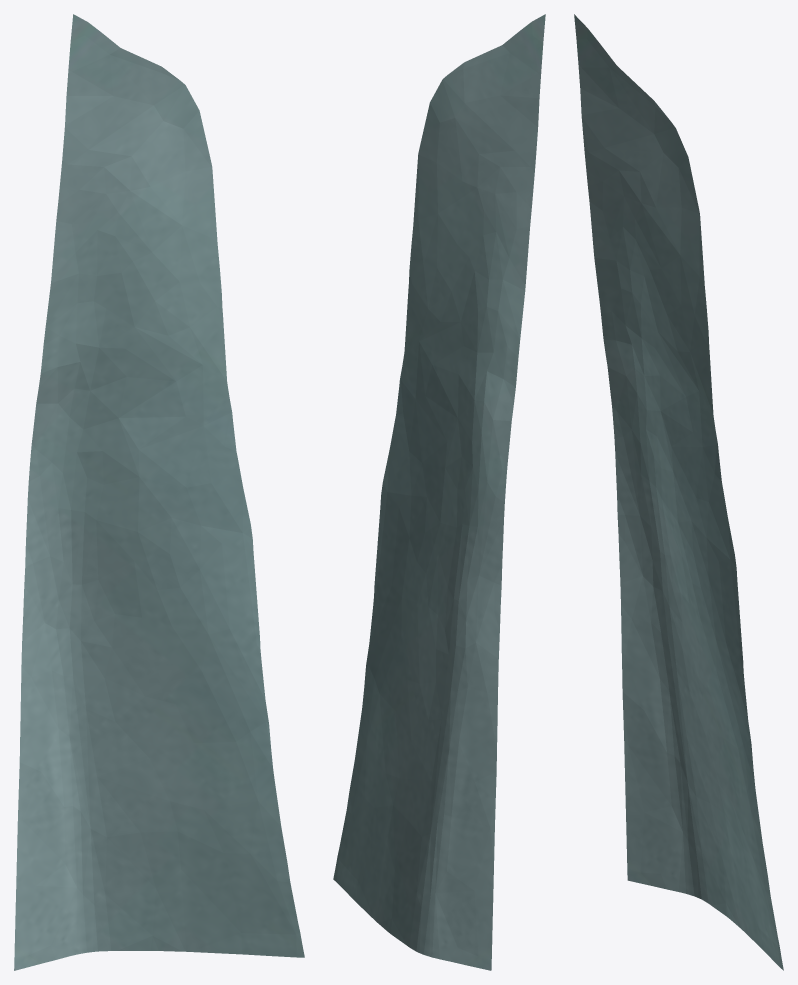
The picture shows the model from 3 angles, left to right: view 1: azimuth 30°, elevation 25°; view 2: azimuth 150°, elevation 25°; view 3: azimuth 330°, elevation 25°; orthographic projection. The views are drawn at different scales.
Parts seen in each view (by area): view 1: 091_W_Aya_100K_01; view 2: 091_W_Aya_100K_01; view 3: 091_W_Aya_100K_01.
Part boxes in pixels (left/top/right/bottom): 091_W_Aya_100K_01: left=14, top=14, right=304, bottom=970; 091_W_Aya_100K_01: left=333, top=14, right=545, bottom=970; 091_W_Aya_100K_01: left=574, top=14, right=783, bottom=970.
Bounding box in the file's own units: 60.59 × 250 × 27.3.
1 material, 1 textured.
